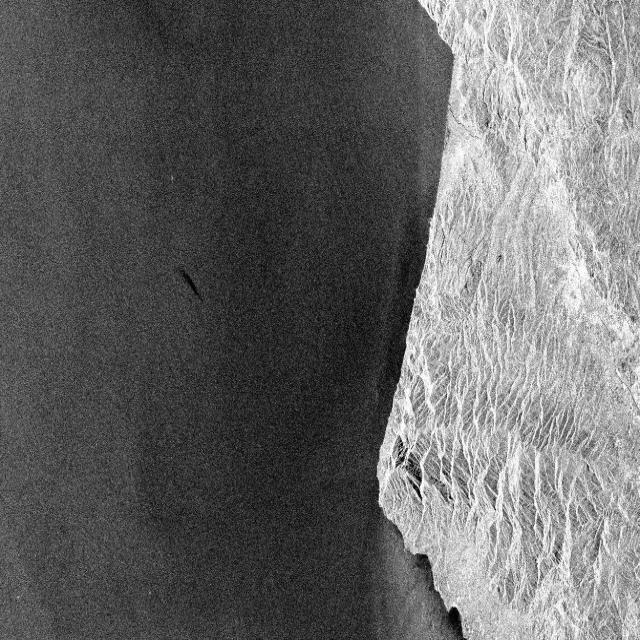look-alike: (415, 547, 436, 588), (447, 601, 467, 640)
oil-spill: (174, 258, 207, 318)
